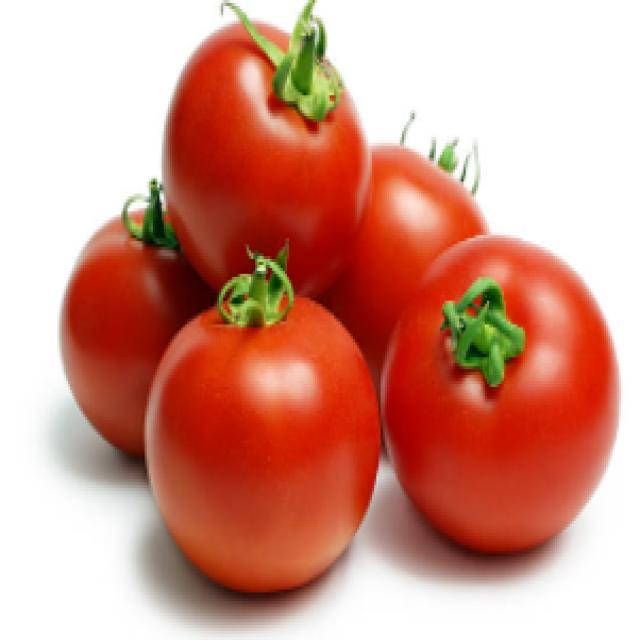Tomato: (383, 225, 624, 552), (150, 265, 385, 590), (157, 1, 375, 280)
